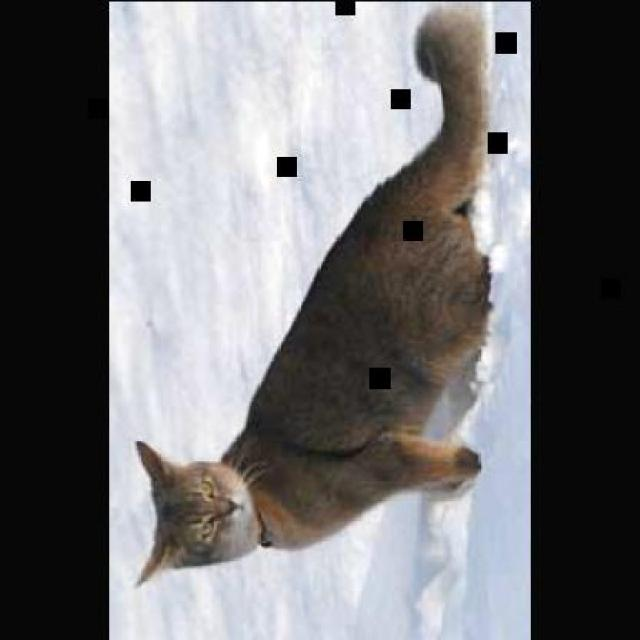unauthorized: (132, 3, 494, 588)
